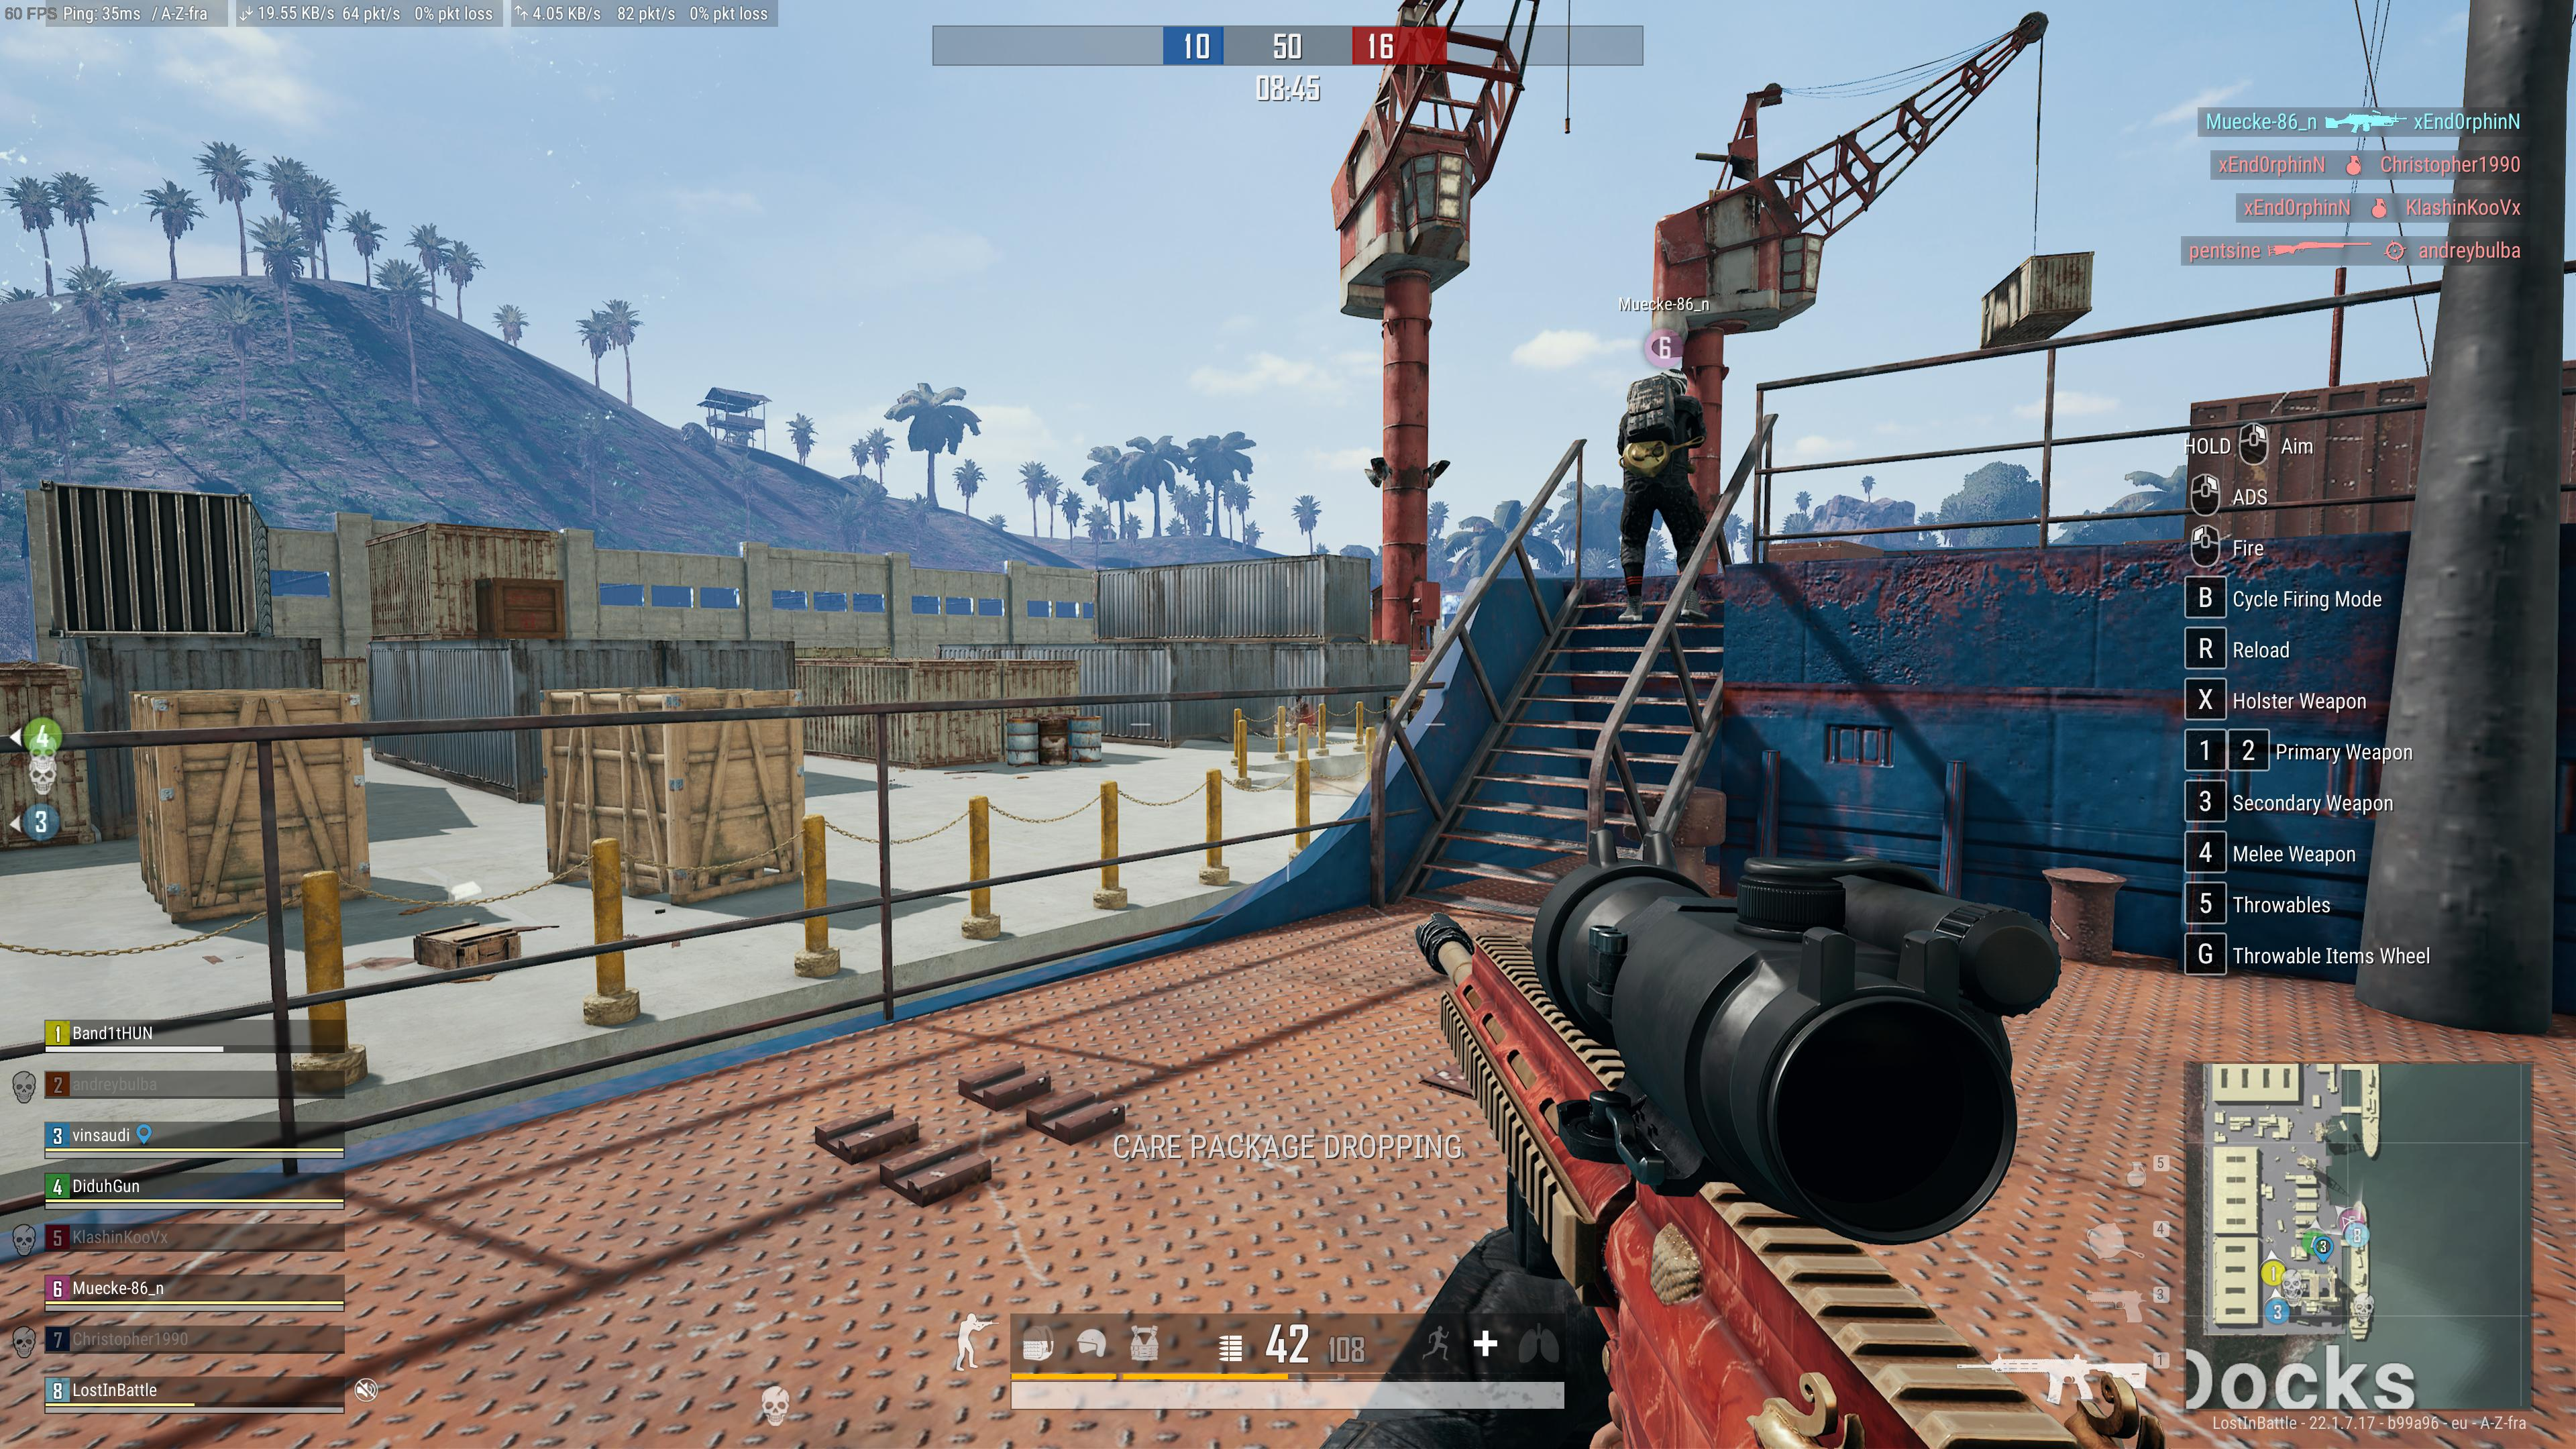enemy: (1288, 694, 1313, 722)
enemy_head: (1293, 694, 1302, 702)
friendly: (1608, 336, 1713, 621)
